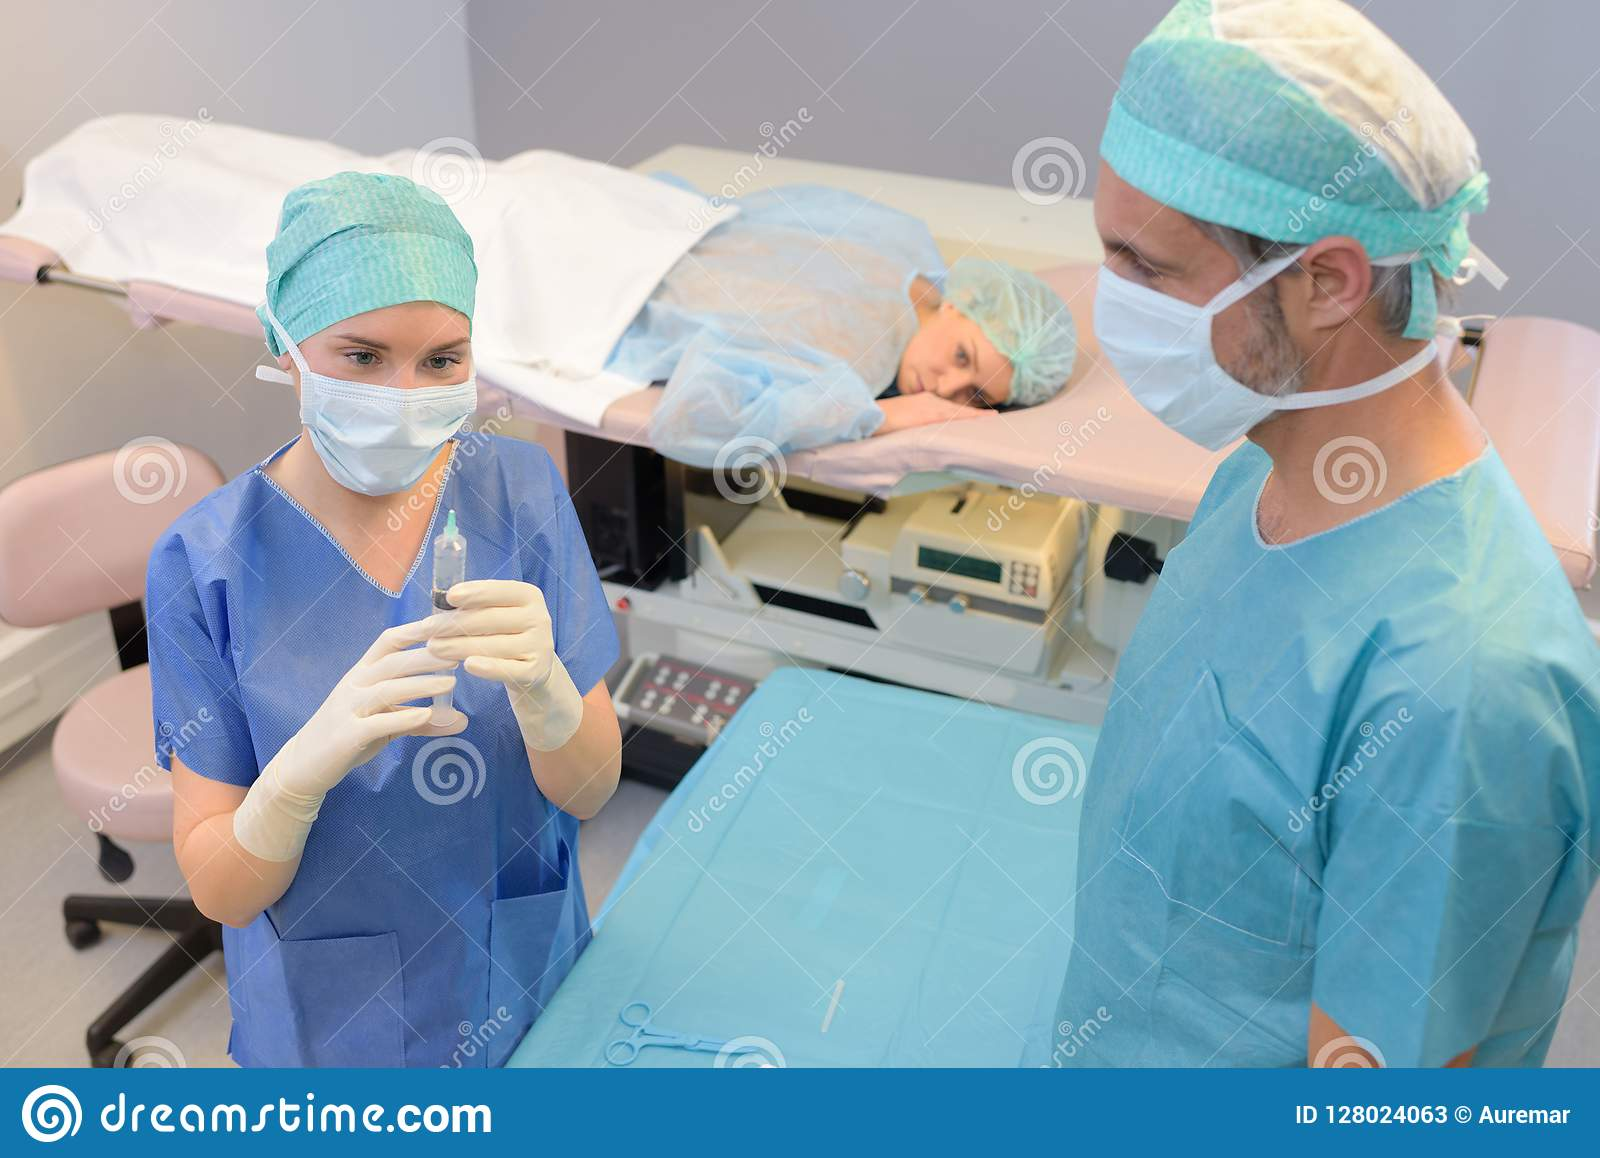mask: (1077, 271, 1268, 456), (296, 365, 480, 509)
